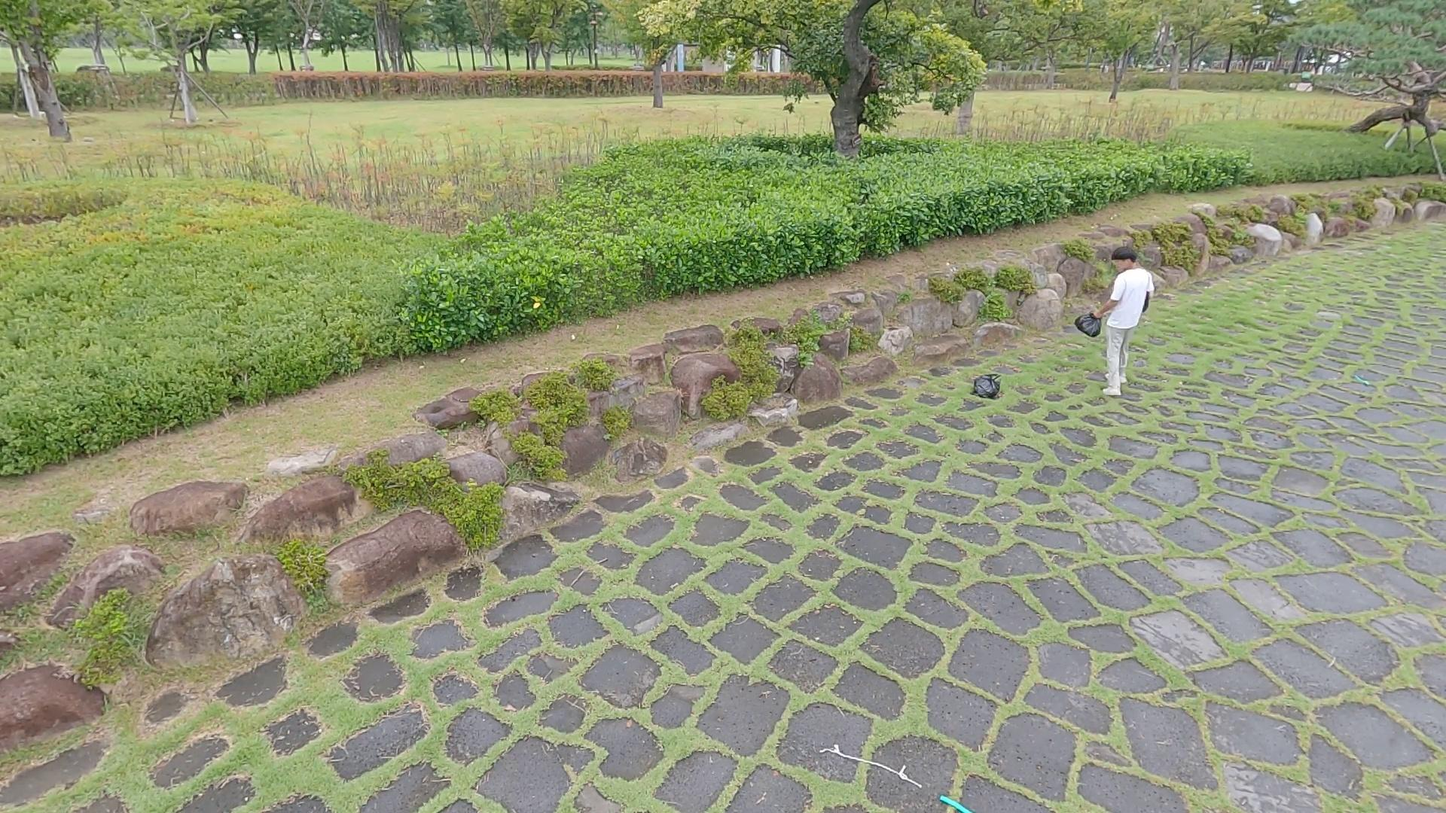person: (1101, 245, 1156, 399)
trash: (1073, 309, 1103, 336), (973, 371, 1002, 398)
